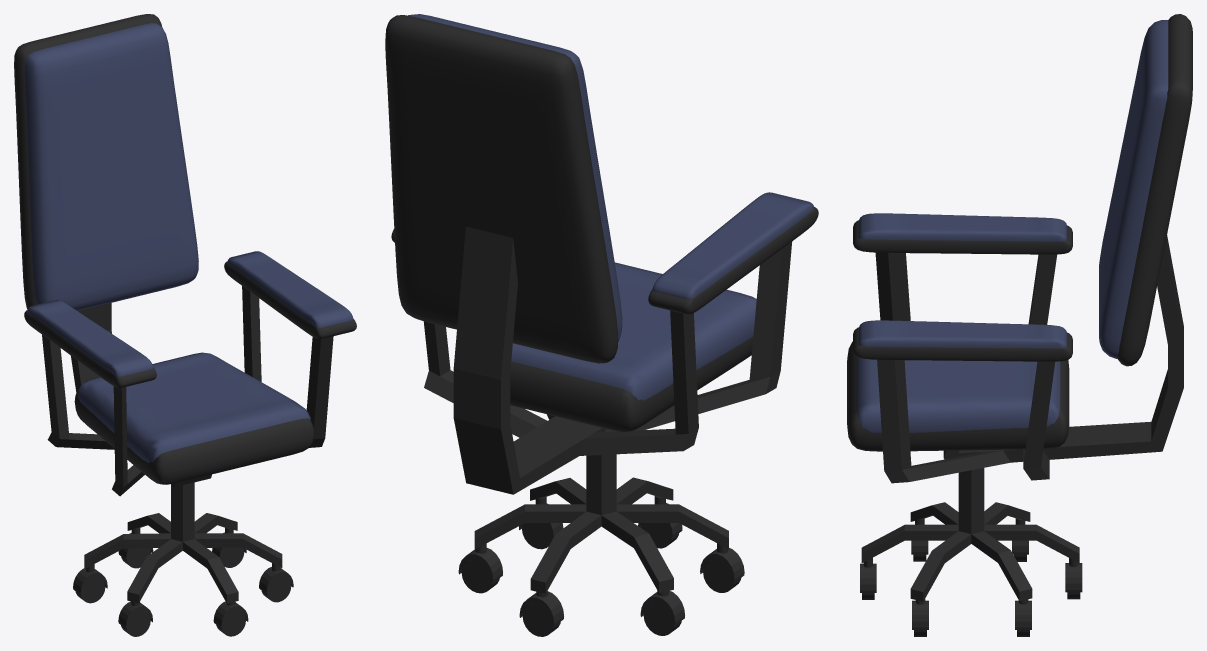
File: chair_anim.fbx
The picture shows the model from 3 angles, left to right: view 1: azimuth 30°, elevation 25°; view 2: azimuth 150°, elevation 25°; view 3: azimuth 270°, elevation 25°; orthographic projection. The views are drawn at different scales.
Parts seen in each view (by area): view 1: pCube131; view 2: pCube131; view 3: pCube131.
Boxes of the visible parts, box(x1,y1,x2,y2) form: pCube131: box(14, 14, 356, 636); pCube131: box(385, 14, 818, 636); pCube131: box(847, 14, 1192, 636).
Size of the model in its own units: 4.79 by 9.57 by 5.45.
